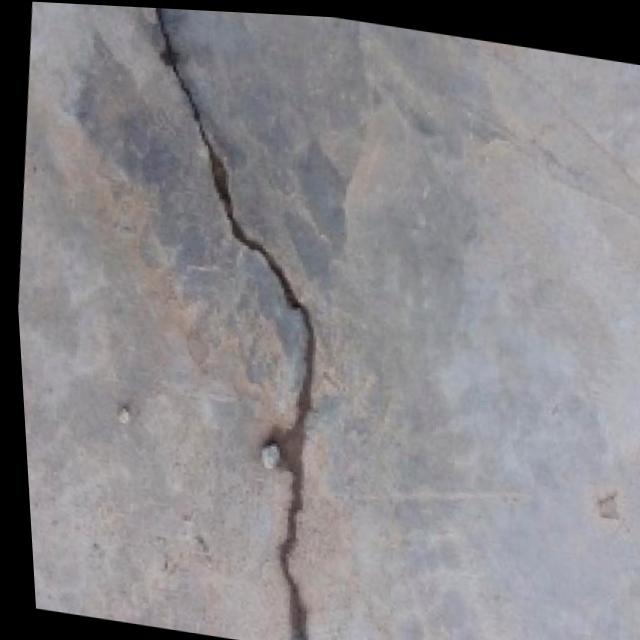Crack: (59, 2, 407, 640)
